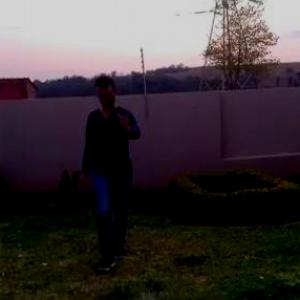takeoff-hand: (112, 103, 138, 132)
